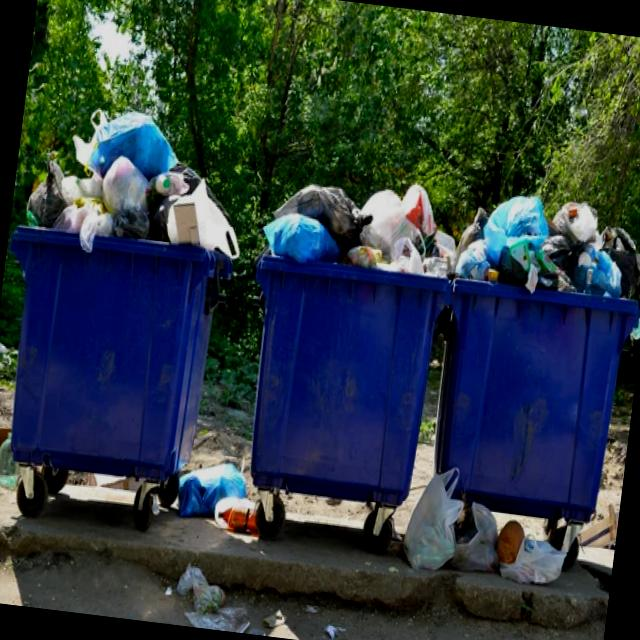garbage: (173, 442, 562, 640)
